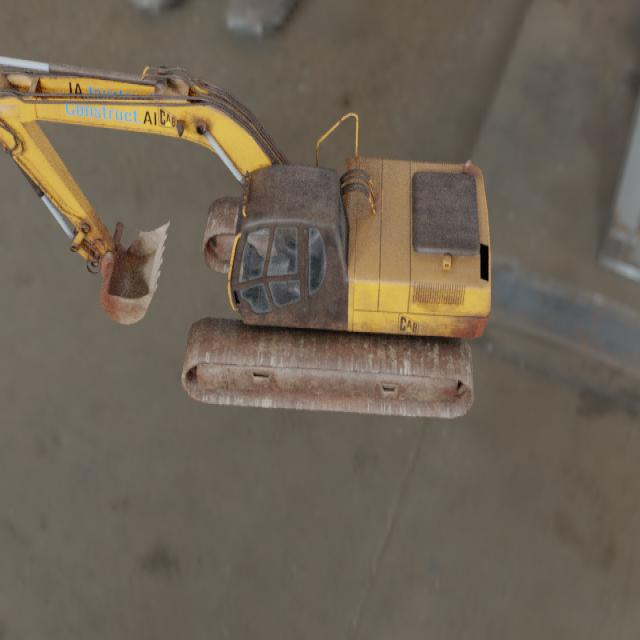excavator: (0, 54, 492, 418)
